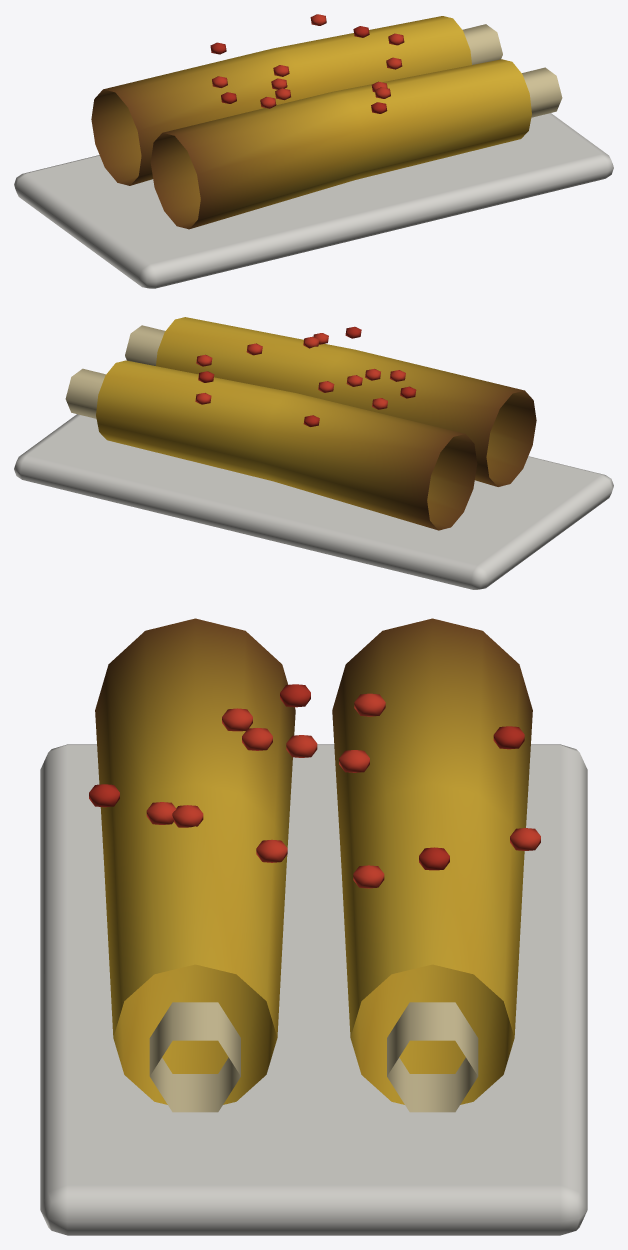
File: item_dish_grilled_corn.glb
3 renders of one model, top to bottom at view 1: azimuth 30°, elevation 25°; view 2: azimuth 150°, elevation 25°; view 3: azimuth 270°, elevation 25°, orthographic. The views are drawn at different scales.
Parts seen in each view (by area): view 1: item_dish_grilled_corn_main; view 2: item_dish_grilled_corn_main; view 3: item_dish_grilled_corn_main.
Part boxes in pixels (x1,y1,x2,y2): item_dish_grilled_corn_main: (14, 14, 613, 288); item_dish_grilled_corn_main: (14, 317, 613, 589); item_dish_grilled_corn_main: (40, 618, 587, 1235).
Size of the model in its own units: 0.24 by 0.0588 by 0.12.
